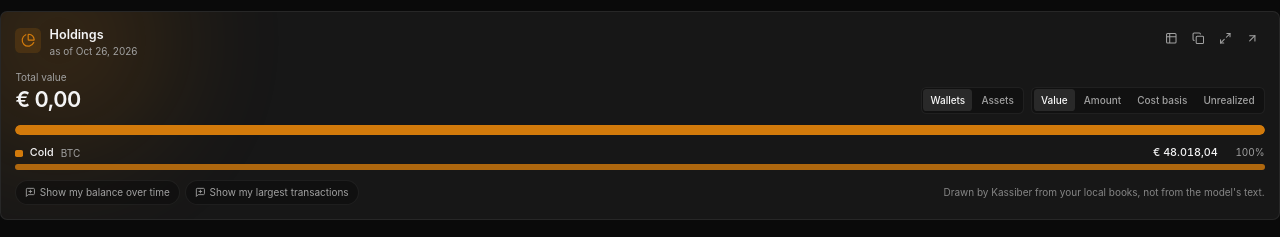
Test: ChatVisual controls › regroups holdings without asking the daemon again
Click the radio button labelled "Assets" at (998, 100), box [974, 89, 1021, 111]
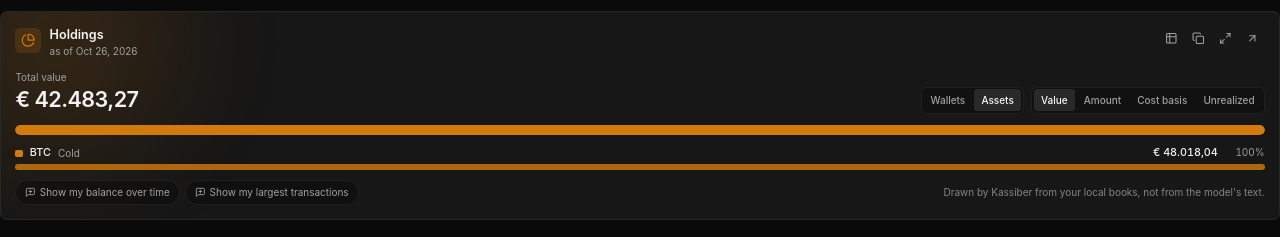
expect the text "BTC" is shown: met, box [30, 146, 51, 160]
